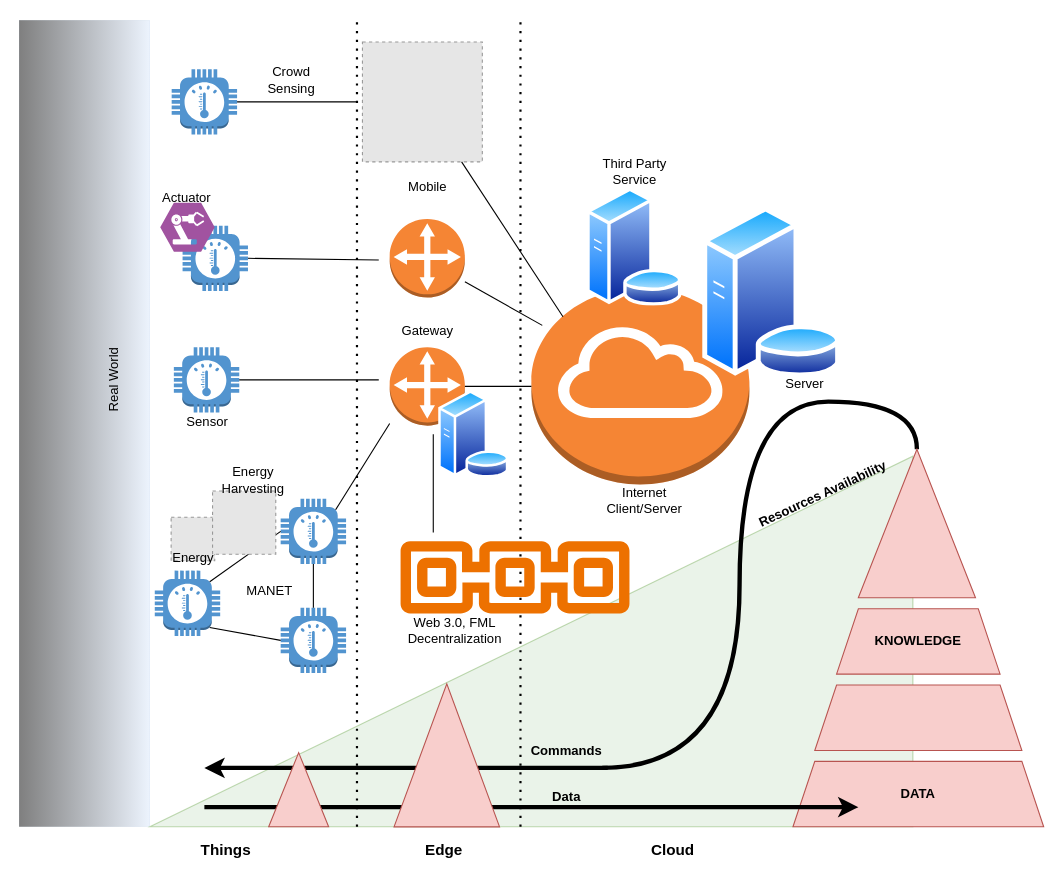
Image size: 1063x884. Some labels were removed from this diagram. Grey dashed boxes stand in for pictures. The box of each missing label's shape, as (x1, y1, x2, y2) in pixels:
INFORMATION: (814, 684, 1022, 750)
WISDOM: (857, 448, 976, 598)
